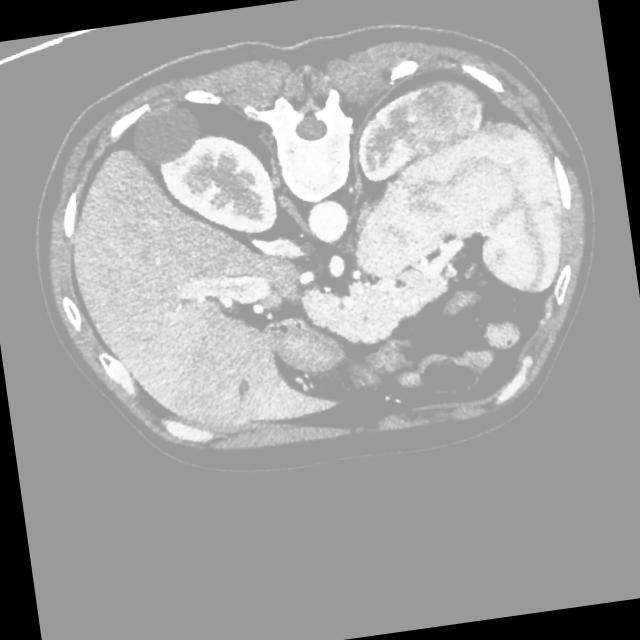TUMOR: (78, 77, 571, 407)
